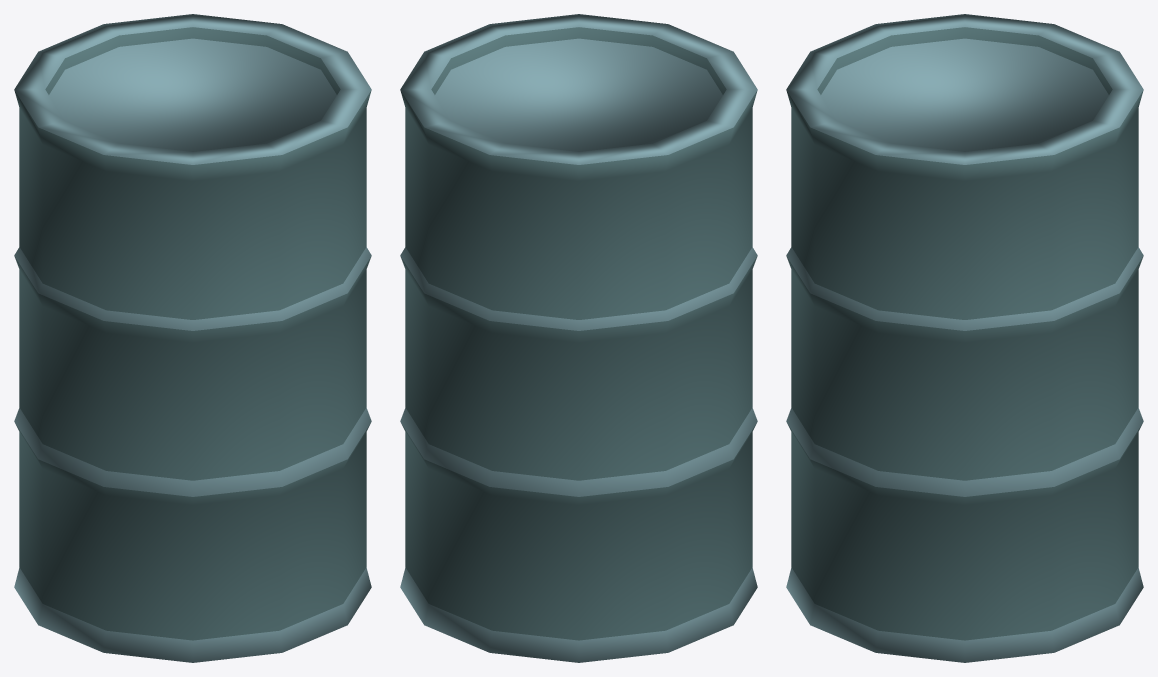
Rendered from BlueMetalBarrel.fbx.
3 renders of one model, left to right at view 1: azimuth 30°, elevation 25°; view 2: azimuth 150°, elevation 25°; view 3: azimuth 270°, elevation 25°, orthographic.
Parts seen in each view (by area): view 1: BlueMetalBarrel; view 2: BlueMetalBarrel; view 3: BlueMetalBarrel.
Part boxes in pixels (x1=…): BlueMetalBarrel: x1=14, y1=14, x2=371, y2=662; BlueMetalBarrel: x1=400, y1=14, x2=757, y2=662; BlueMetalBarrel: x1=786, y1=14, x2=1143, y2=662.
Size of the model in its own units: 1.19 by 1.19 by 1.84.
